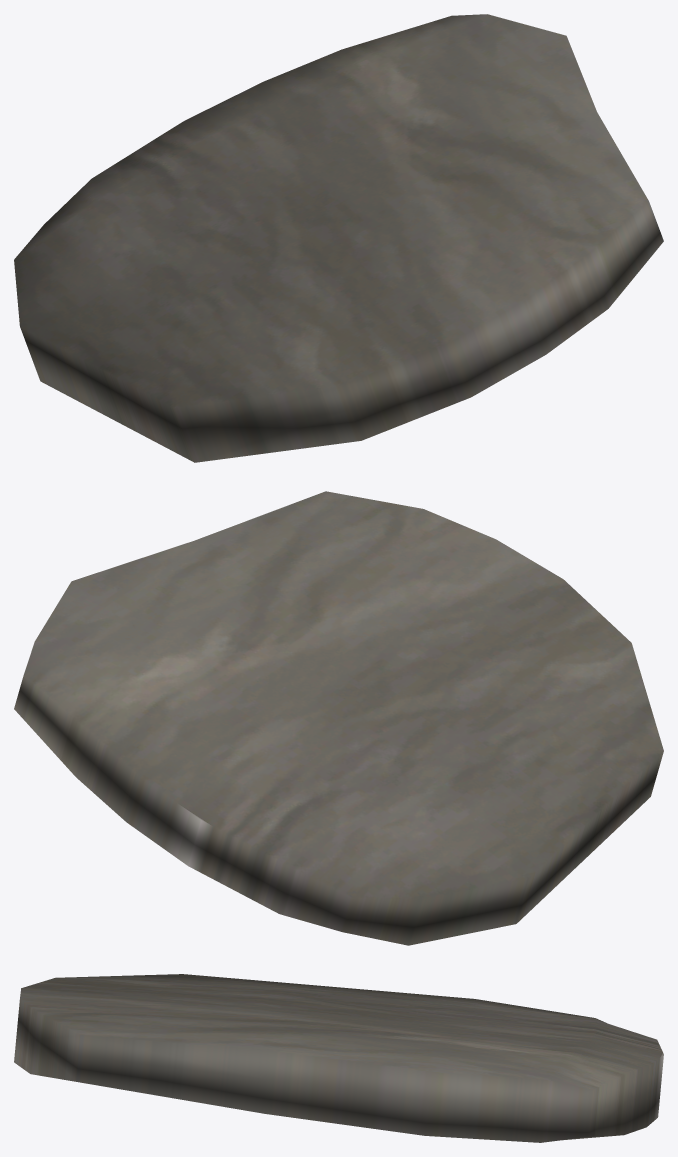
Rendered from FlatStone13Shape.dae.
3 renders of one model, top to bottom at view 1: azimuth 30°, elevation 25°; view 2: azimuth 150°, elevation 25°; view 3: azimuth 270°, elevation 25°, orthographic. The views are drawn at different scales.
Parts seen in each view (by area): view 1: FlatStone13; view 2: FlatStone13; view 3: FlatStone13.
Part boxes in pixels (x1,y1,x2,y2): FlatStone13: (14,14,663,462); FlatStone13: (14,491,663,945); FlatStone13: (14,974,663,1142).
Bounding box in the file's own units: 1.24 × 0.52 × 1.33.
